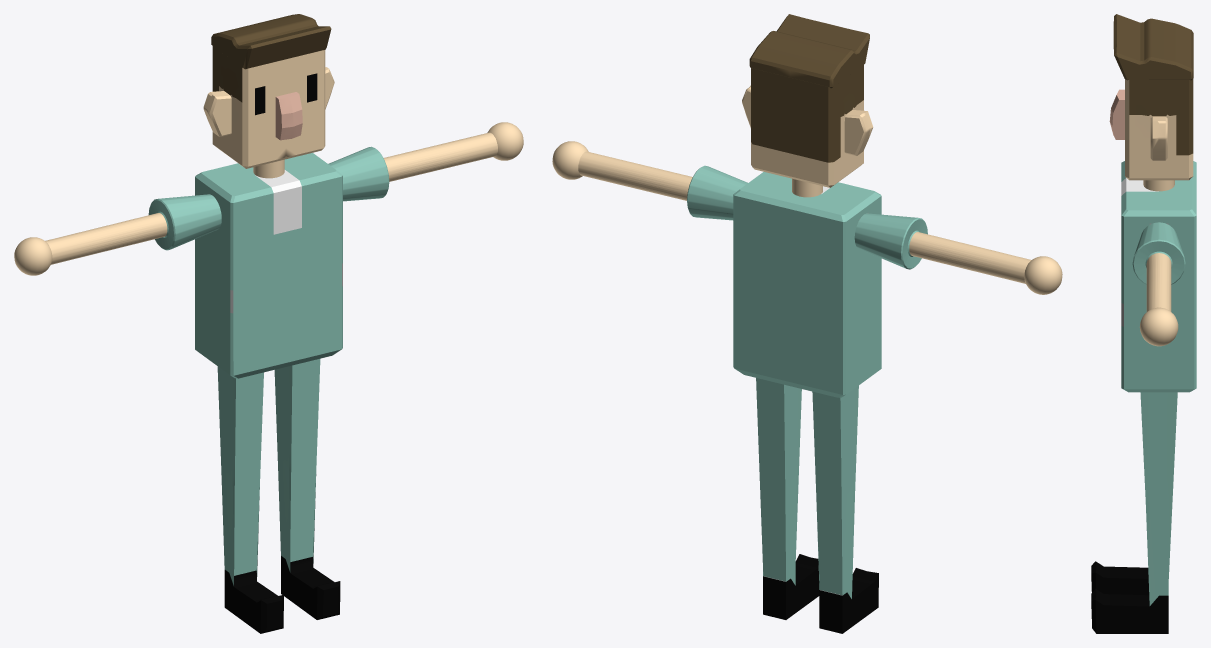
File: Nurse_Steveblender2.fbx
3 renders of one model, left to right at view 1: azimuth 30°, elevation 25°; view 2: azimuth 150°, elevation 25°; view 3: azimuth 270°, elevation 25°, orthographic.
Parts seen in each view (by area): view 1: Body2; view 2: Body2; view 3: Body2.
Part boxes in pixels (x1=…): Body2: x1=14, y1=14, x2=523, y2=633; Body2: x1=552, y1=14, x2=1062, y2=633; Body2: x1=1091, y1=14, x2=1196, y2=633.
Size of the model in its own units: 1722 by 1894 by 312.
